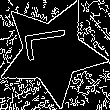L_E: (25, 33, 80, 71)
